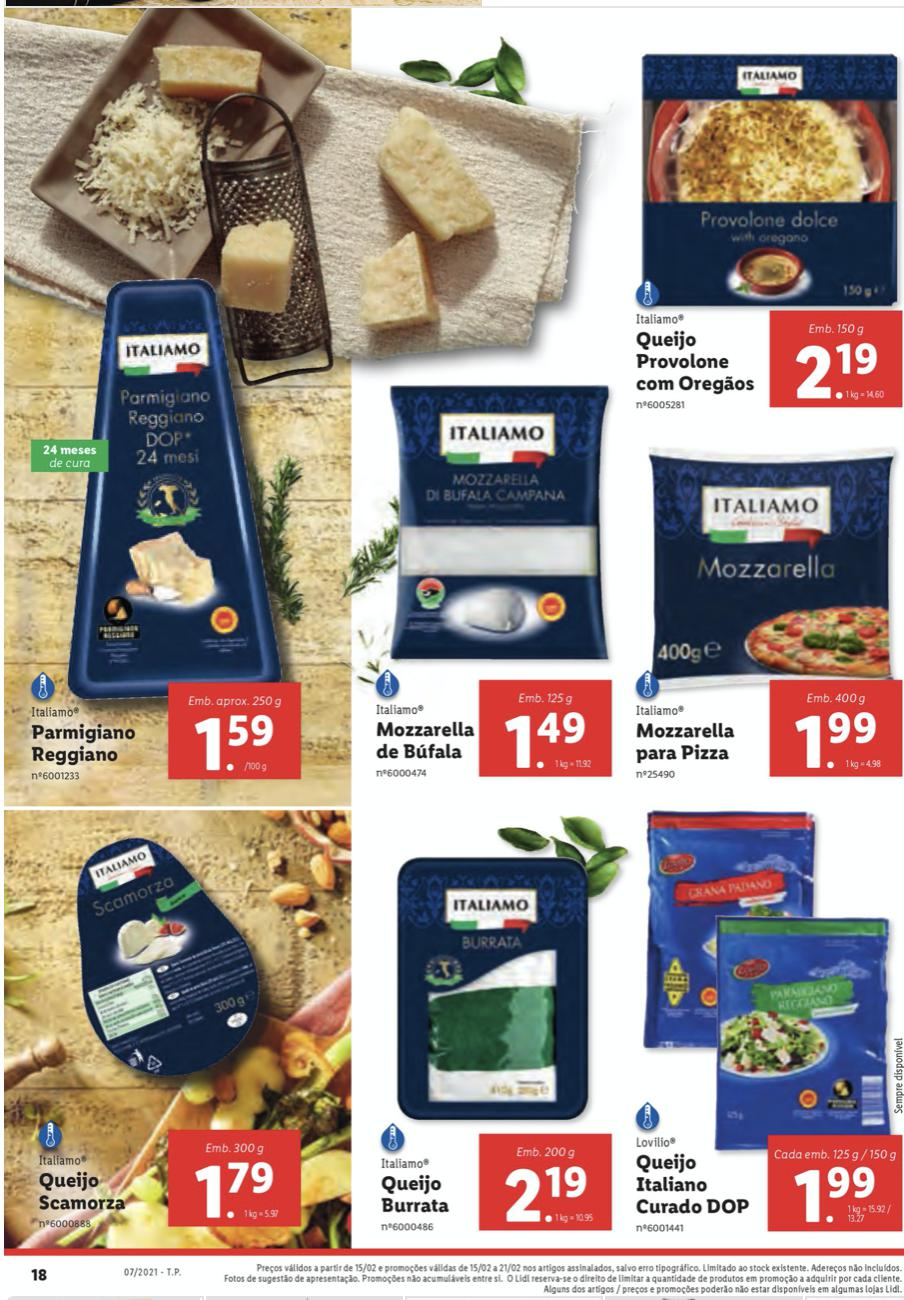name: (631, 1147, 752, 1221), (636, 327, 760, 397), (369, 713, 476, 766), (631, 716, 739, 765), (21, 721, 137, 766), (36, 1168, 131, 1216), (381, 1171, 455, 1219)
price: (790, 703, 882, 776), (187, 710, 281, 777), (500, 708, 594, 773), (792, 1163, 879, 1232), (503, 1162, 591, 1228), (794, 339, 884, 403), (187, 1161, 277, 1223)
product: (16, 268, 334, 794), (628, 799, 904, 1242), (358, 805, 627, 1239), (361, 374, 624, 789), (624, 419, 904, 789), (621, 40, 902, 408)
